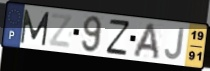9: (80, 15, 105, 55)
A: (131, 22, 161, 61)
J: (163, 27, 186, 62)
M: (19, 8, 51, 47)
Z: (47, 12, 74, 50), (105, 18, 131, 56)
